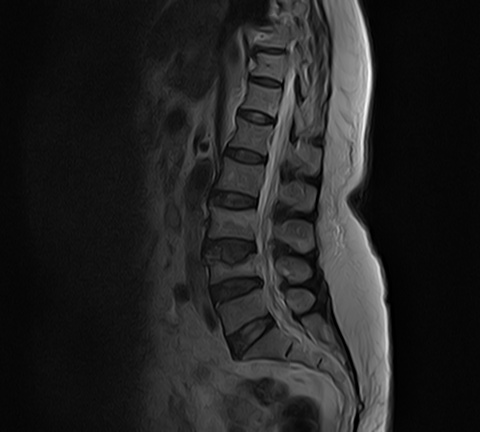L1,v1: (228, 120, 278, 148)
L1-L2,v1: (223, 143, 273, 171)
L2,v1: (216, 164, 266, 192)
L2-L3,v1: (210, 189, 260, 217)
L3,v2: (208, 209, 258, 237)
L3-L4,v5: (208, 236, 258, 264)
L4,v2: (209, 257, 259, 285)
L4-L5,v2: (212, 273, 262, 301)
L5,v1: (219, 295, 269, 323)
L5-S1,v2: (226, 318, 276, 346)
T12-L1,v1: (231, 104, 281, 132)
